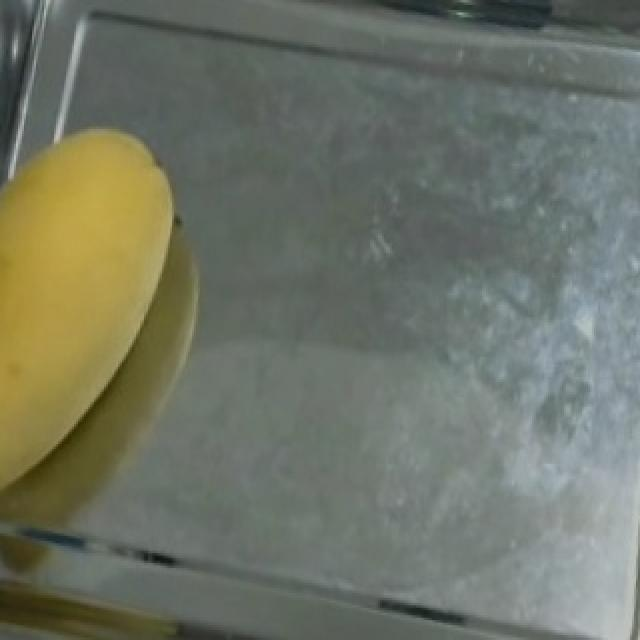fruit: (0, 97, 218, 469)
